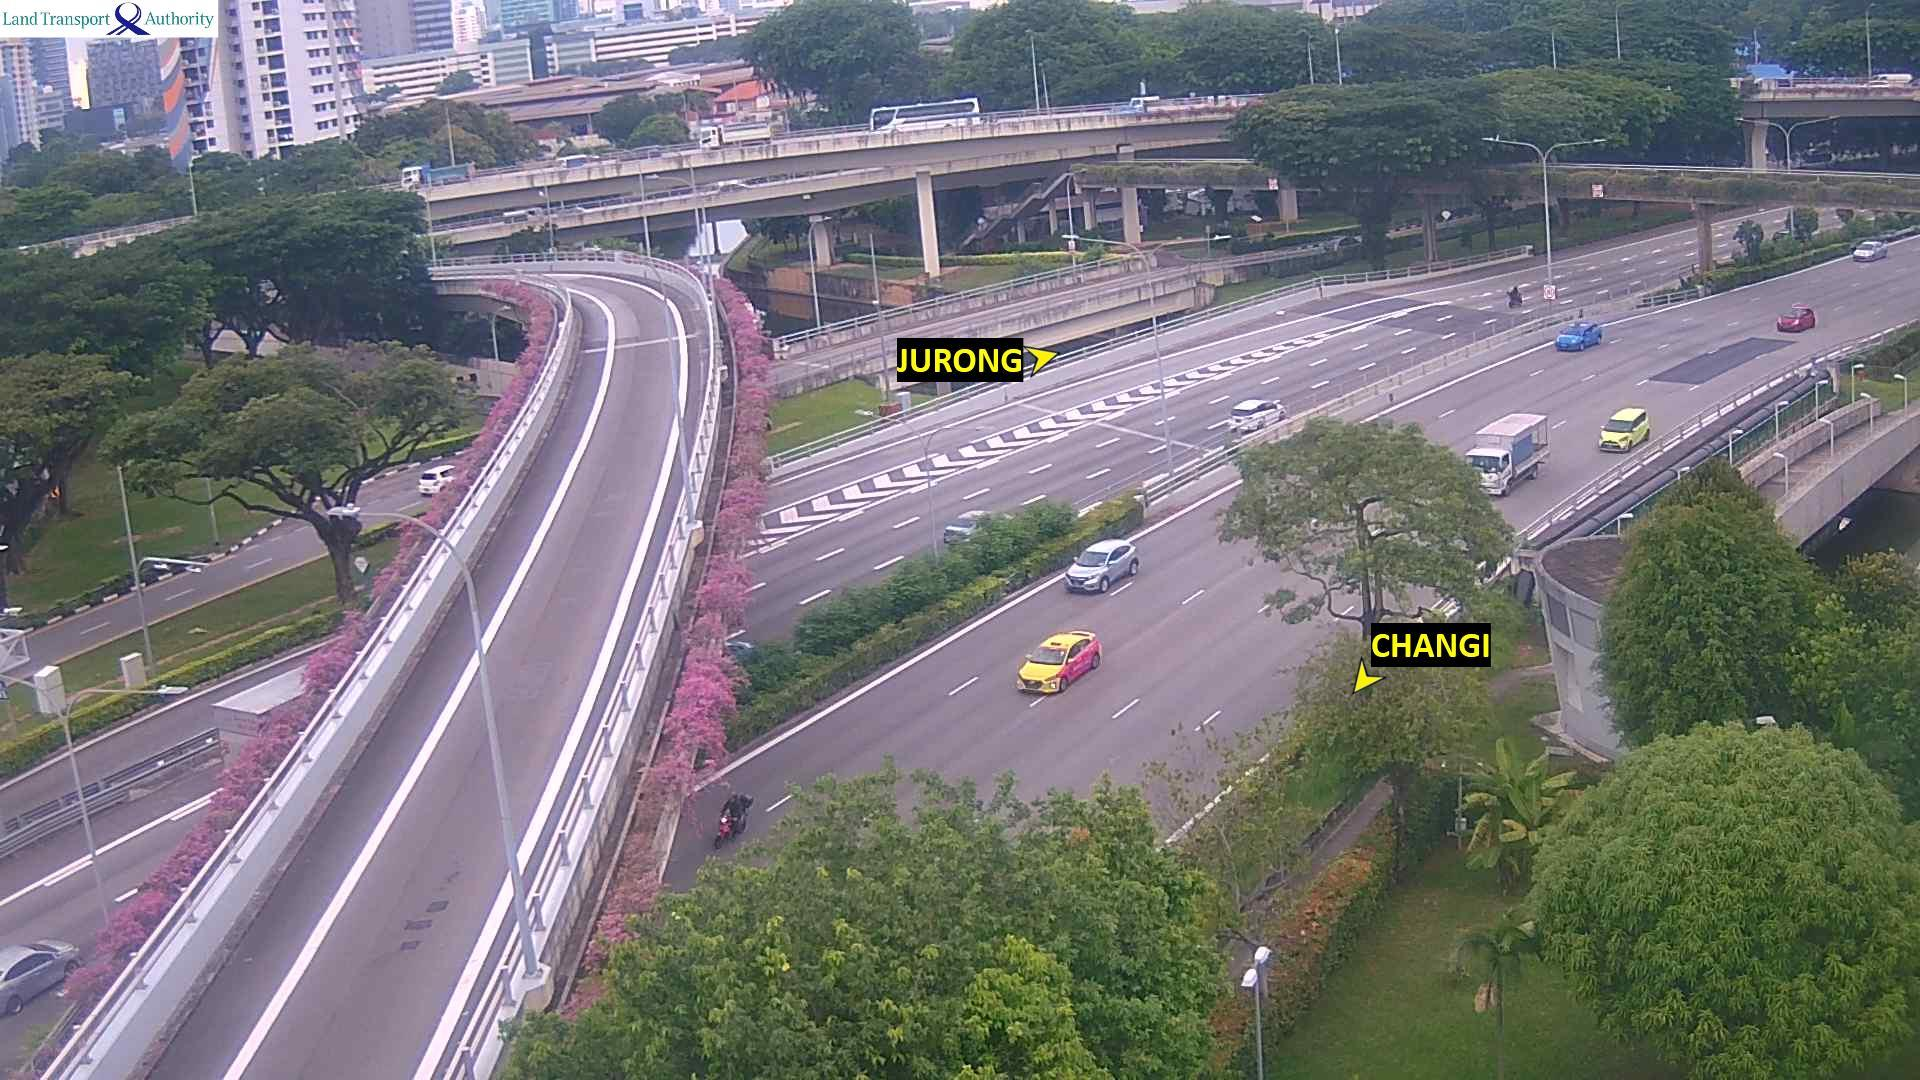incoming: (1019, 648, 1076, 698), (1460, 446, 1509, 499), (1067, 553, 1117, 593), (1595, 418, 1641, 453), (714, 807, 735, 852), (1557, 326, 1590, 353), (1775, 309, 1806, 335), (1851, 243, 1878, 264)
